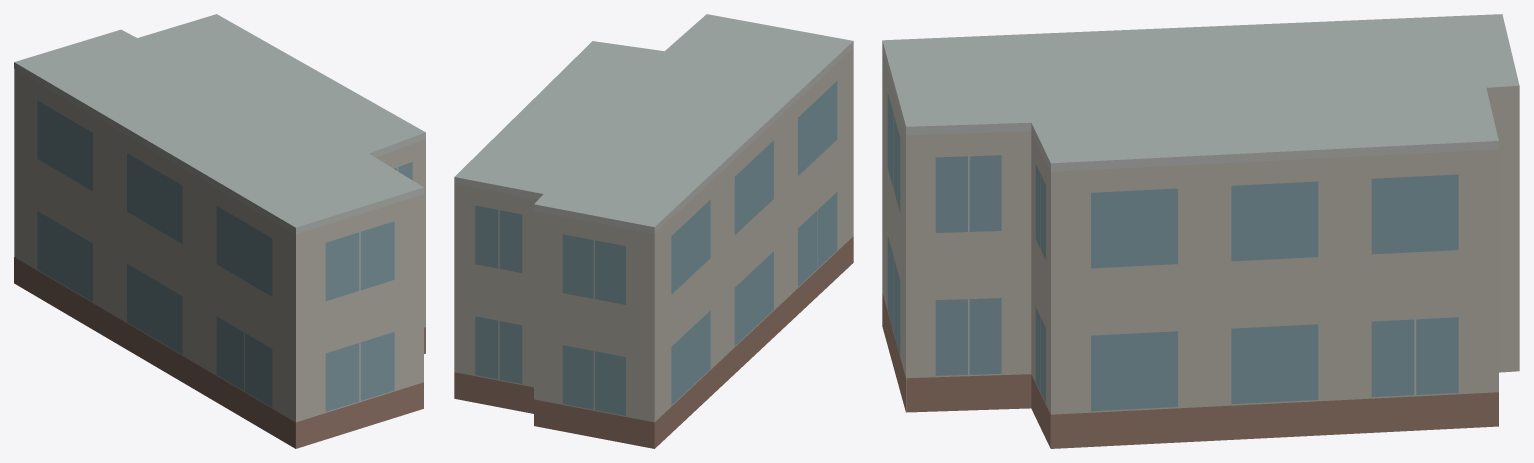
The model's file is survey-upis-32630588.glb.
3 views of the same model, side by side, from view 1: azimuth 30°, elevation 25°; view 2: azimuth 150°, elevation 25°; view 3: azimuth 270°, elevation 25° (orthographic). The views are drawn at different scales.
Parts seen in each view (by area): view 1: survey-upis-32630588.tmp; view 2: survey-upis-32630588.tmp; view 3: survey-upis-32630588.tmp.
Part boxes in pixels (x1,y1,x2,y2): survey-upis-32630588.tmp: [14, 14, 425, 448]; survey-upis-32630588.tmp: [454, 14, 853, 448]; survey-upis-32630588.tmp: [882, 14, 1519, 448].
Bounding box in the file's own units: 9.09 × 8.1 × 16.39.
